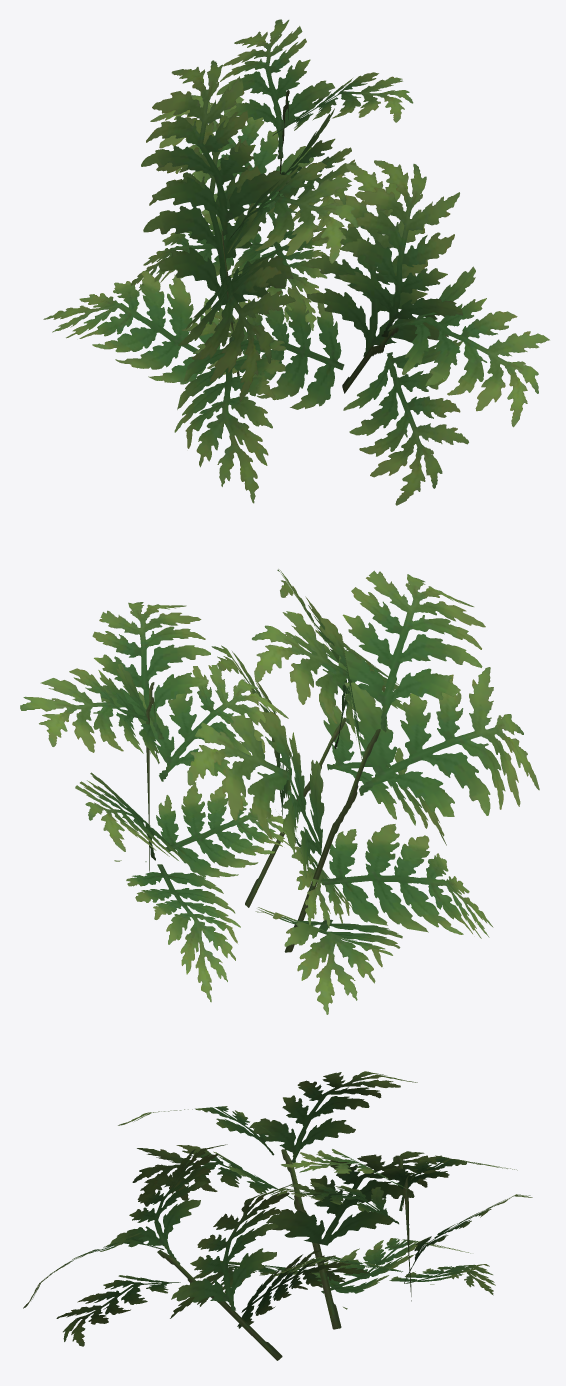
Rendered from zhiwu_11.FBX.
The picture shows the model from 3 angles, top to bottom: view 1: azimuth 30°, elevation 25°; view 2: azimuth 150°, elevation 25°; view 3: azimuth 270°, elevation 25°; orthographic projection. The views are drawn at different scales.
Visible parts, largest first — view 1: zhiwu_11; view 2: zhiwu_11; view 3: zhiwu_11.
Boxes of the visible parts, left/top/right/bottom form: zhiwu_11: left=43, top=19, right=549, bottom=505; zhiwu_11: left=20, top=569, right=539, bottom=1014; zhiwu_11: left=23, top=1071, right=532, bottom=1360.
Size of the model in its own units: 0.7338 by 0.812 by 1.27.
